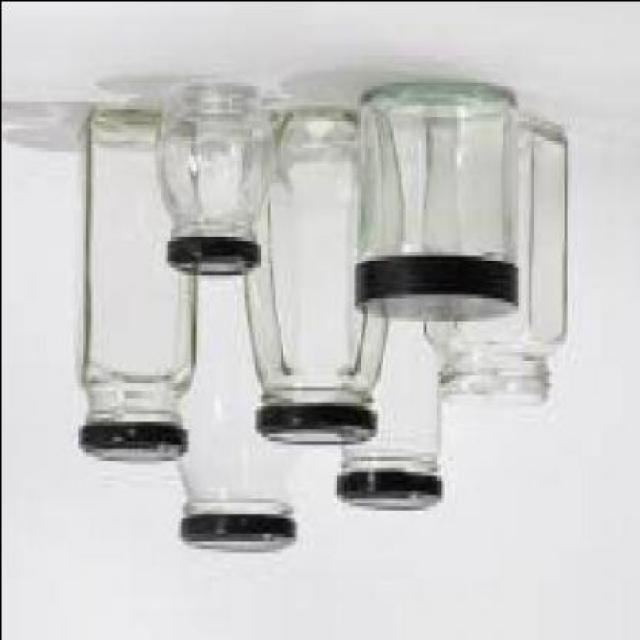GLASS: (420, 116, 568, 404), (246, 112, 389, 408), (76, 108, 195, 428), (173, 270, 304, 516), (355, 81, 520, 270), (156, 86, 275, 240), (341, 308, 445, 478)
METAL: (356, 258, 519, 328), (259, 404, 376, 450), (181, 513, 297, 559), (339, 478, 443, 517), (169, 235, 262, 278), (79, 432, 192, 466)
